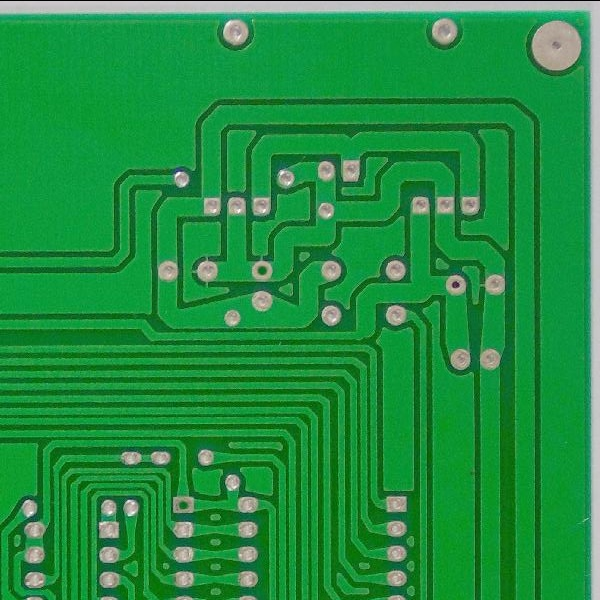missing_hole: (170, 491, 195, 519), (248, 256, 273, 283)
